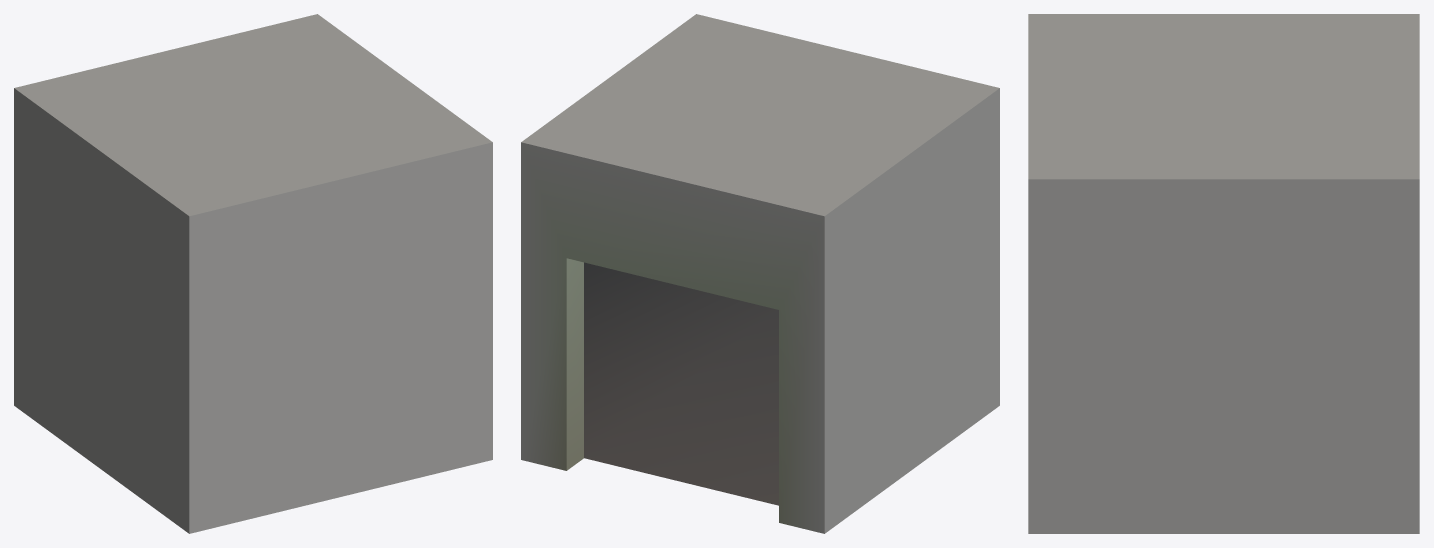
The model's file is wall-b-garage.glb.
The picture shows the model from 3 angles, left to right: view 1: azimuth 30°, elevation 25°; view 2: azimuth 150°, elevation 25°; view 3: azimuth 270°, elevation 25°; orthographic projection. The views are drawn at different scales.
Parts seen in each view (by area): view 1: wall-b-garage; view 2: wall-b-garage; view 3: wall-b-garage.
Part boxes in pixels (left/top/right/bottom): wall-b-garage: left=14, top=14, right=492, bottom=533; wall-b-garage: left=521, top=14, right=999, bottom=533; wall-b-garage: left=1028, top=14, right=1419, bottom=533.
Bounding box in the file's own units: 1 × 1 × 1.
